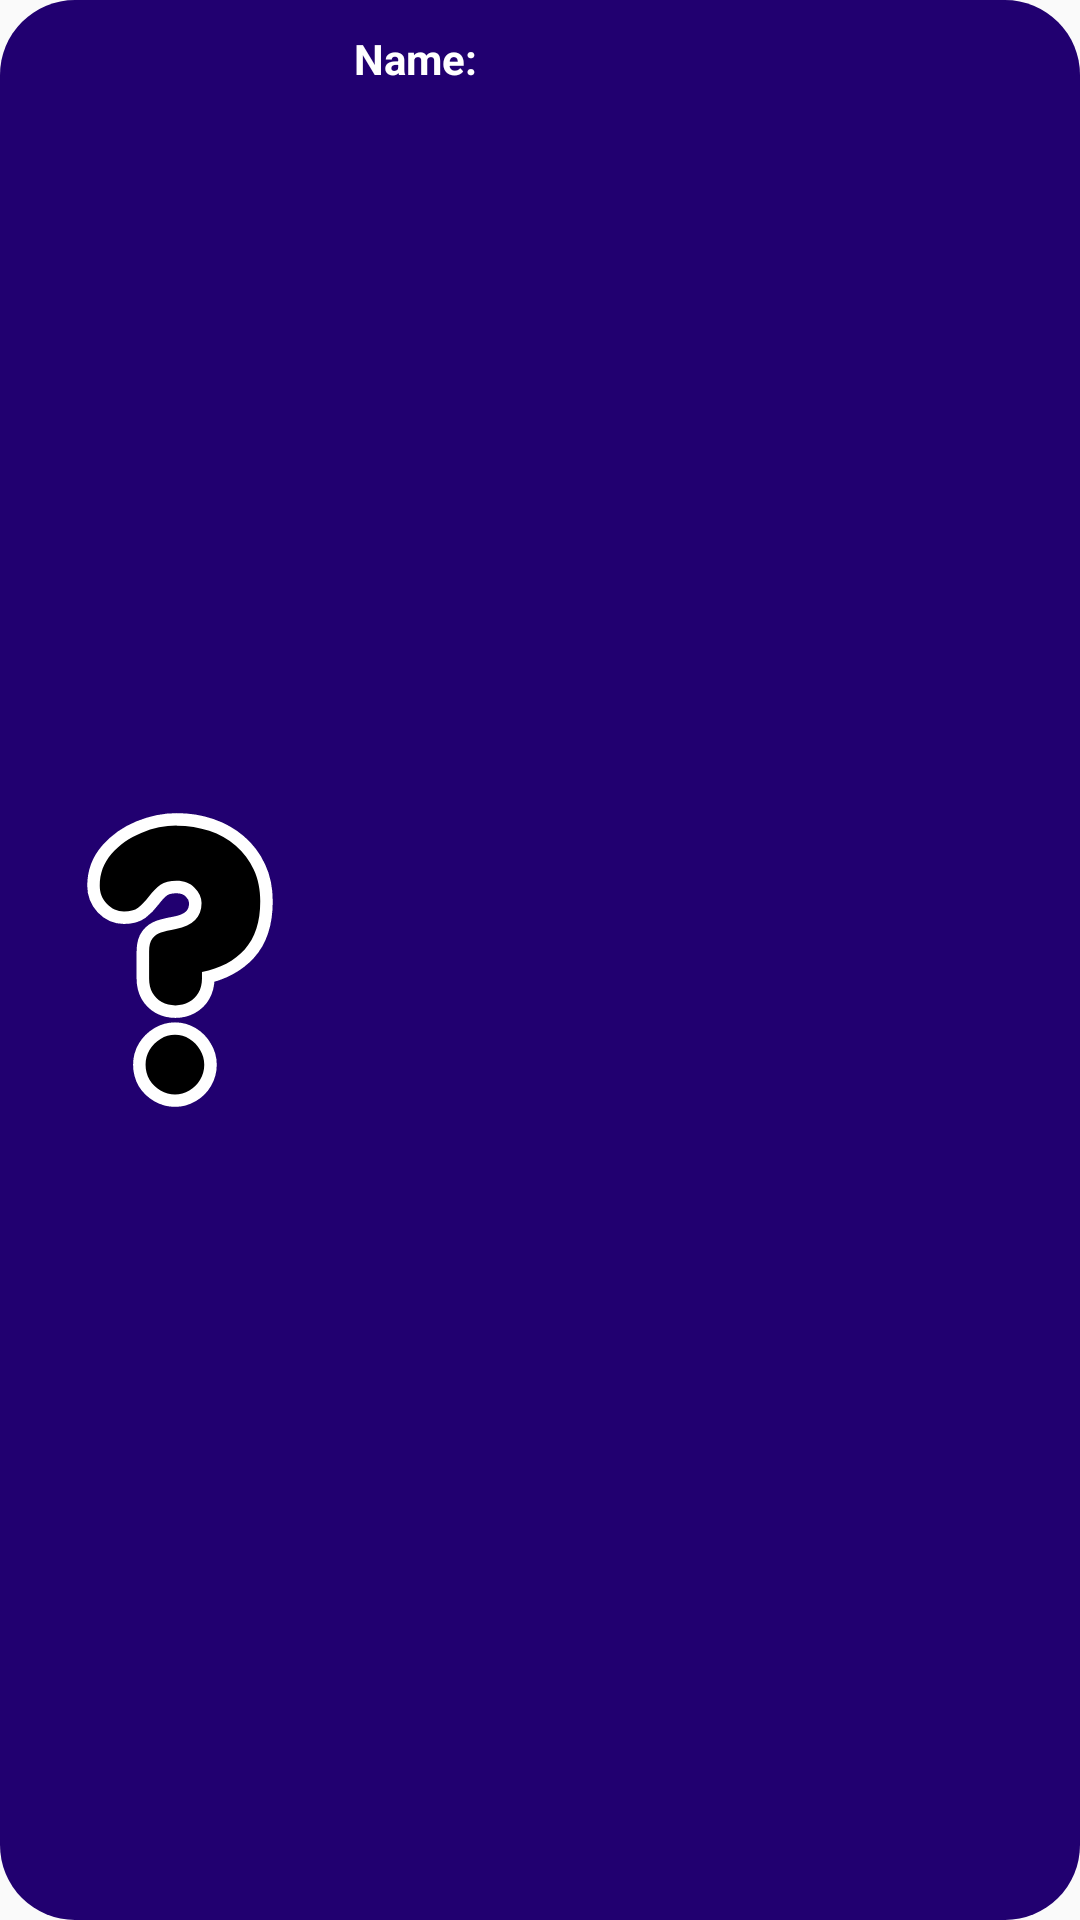

Icons on this 1080 x 1920 Android screen, each with its box as box=[x1, y1, x2, y2]:
mono metacontact unknown: box=[87, 813, 273, 1107]
